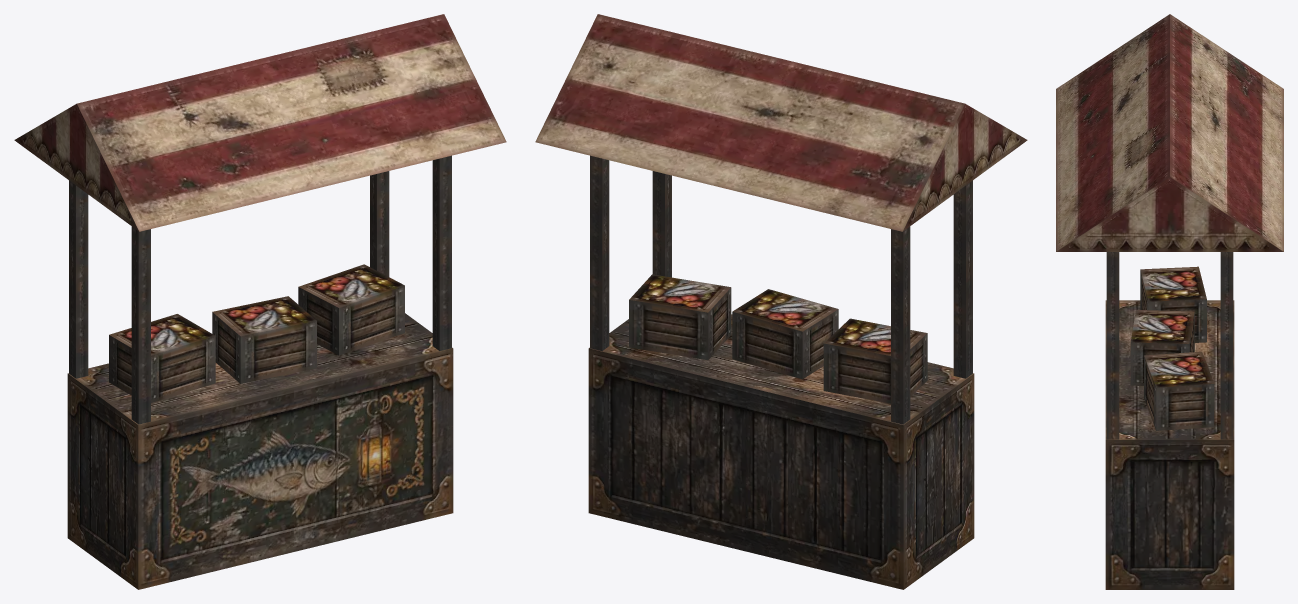
The model's file is market_stall.glb.
The picture shows the model from 3 angles, left to right: view 1: azimuth 30°, elevation 25°; view 2: azimuth 150°, elevation 25°; view 3: azimuth 270°, elevation 25°; orthographic projection. The views are drawn at different scales.
Visible parts, largest first — view 1: GEO-market_stall; view 2: GEO-market_stall; view 3: GEO-market_stall.
Part boxes in pixels (bbox=[...]): GEO-market_stall: bbox=[14, 14, 506, 589]; GEO-market_stall: bbox=[535, 14, 1027, 589]; GEO-market_stall: bbox=[1056, 14, 1283, 589].
Size of the model in its own units: 2.1 by 2.55 by 1.24.
1 material, 1 textured.
